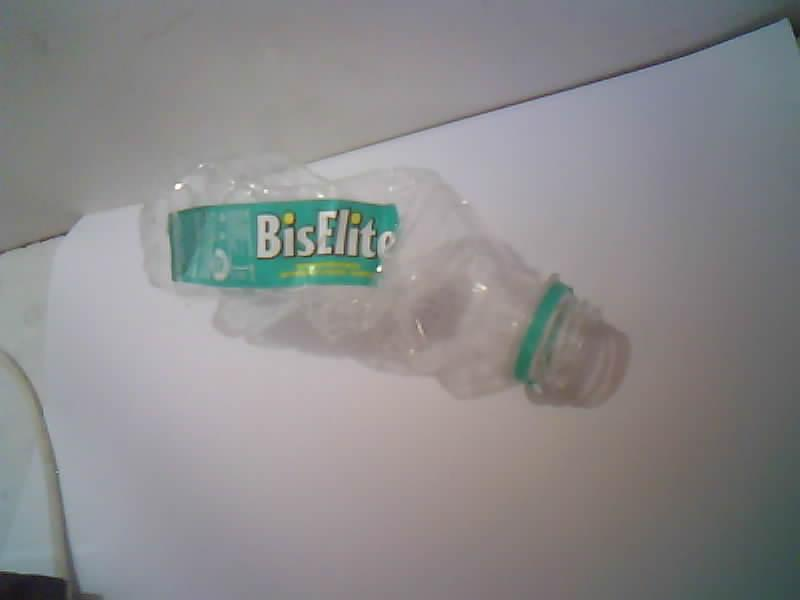non-biodegradable: (142, 161, 626, 403)
